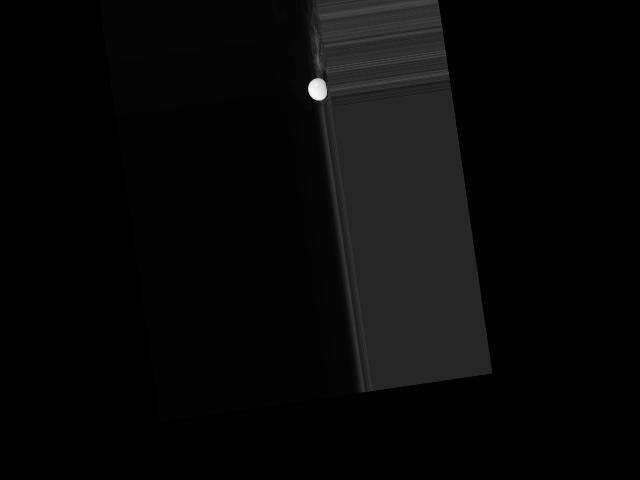egg: (306, 76, 328, 101)
